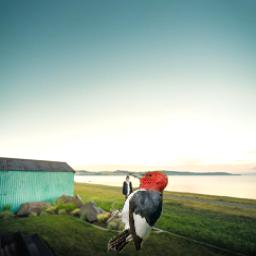Woodpecker: (107, 170, 168, 253)
